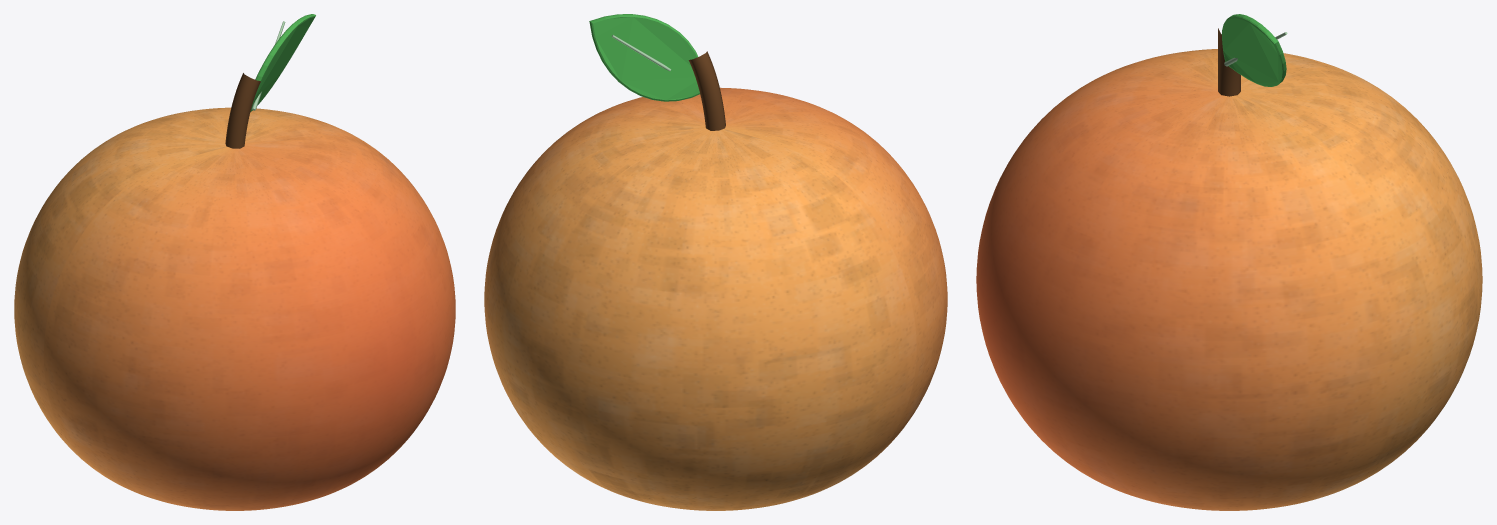
File: apricot.glb
3 views of the same model, side by side, from view 1: azimuth 30°, elevation 25°; view 2: azimuth 150°, elevation 25°; view 3: azimuth 270°, elevation 25° (orthographic). The views are drawn at different scales.
Size of the model in its own units: 0.1505 by 0.1601 by 0.1505.
4 materials, 1 textured.
